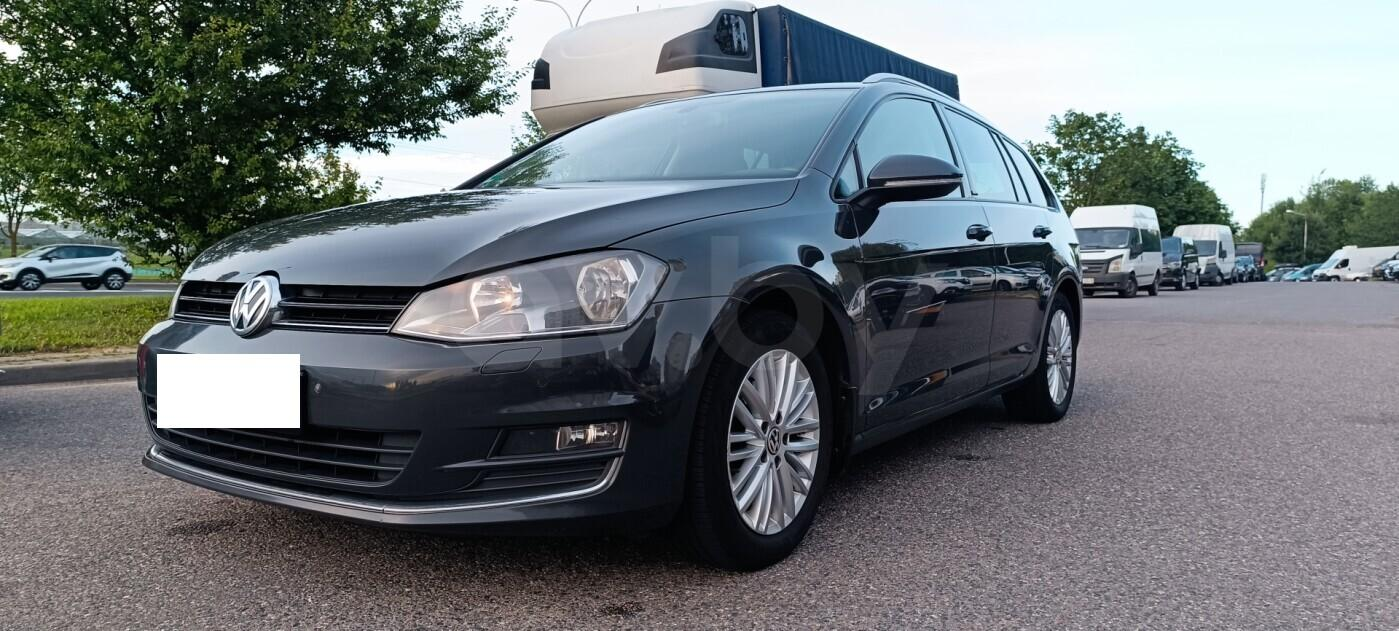Golf_2012-2017: (130, 73, 1093, 565)
